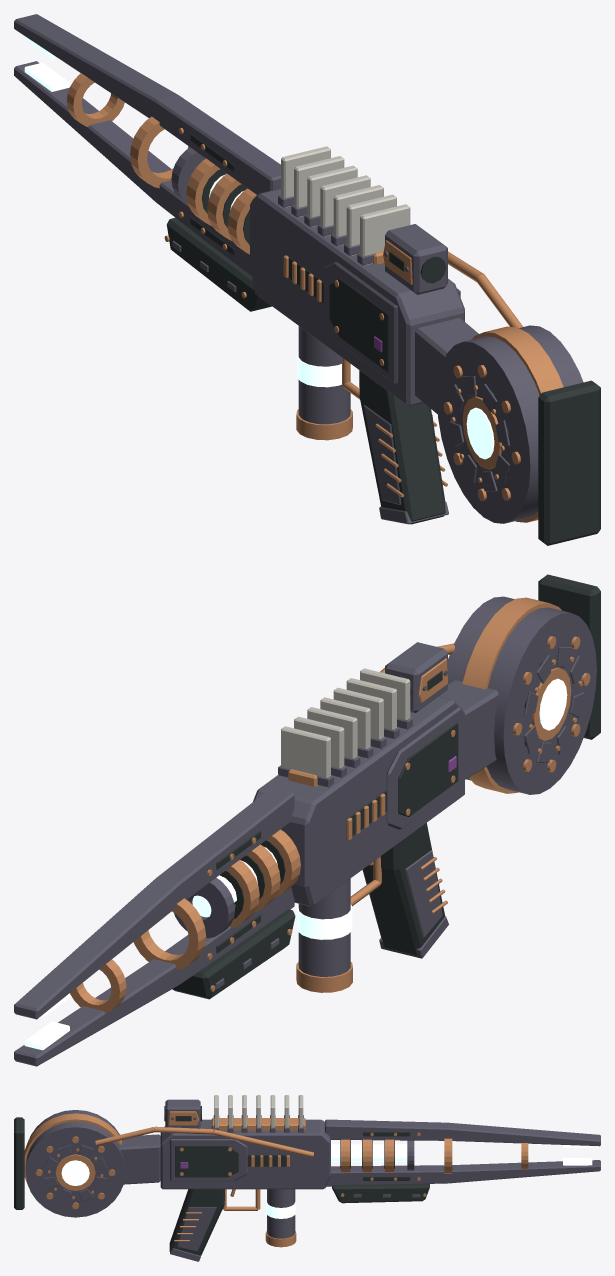
The model's file is laser_3.glb.
The picture shows the model from 3 angles, top to bottom: view 1: azimuth 30°, elevation 25°; view 2: azimuth 150°, elevation 25°; view 3: azimuth 270°, elevation 25°; orthographic projection. The views are drawn at different scales.
Visible parts, largest first — view 1: Weapon_laser_v1; view 2: Weapon_laser_v1; view 3: Weapon_laser_v1.
Boxes of the visible parts, x1=… form: Weapon_laser_v1: x1=14, y1=14, x2=600, y2=545; Weapon_laser_v1: x1=14, y1=574, x2=600, y2=1066; Weapon_laser_v1: x1=14, y1=1095, x2=600, y2=1261.
Bounding box in the file's own units: 0.087 × 0.2927 × 1.
